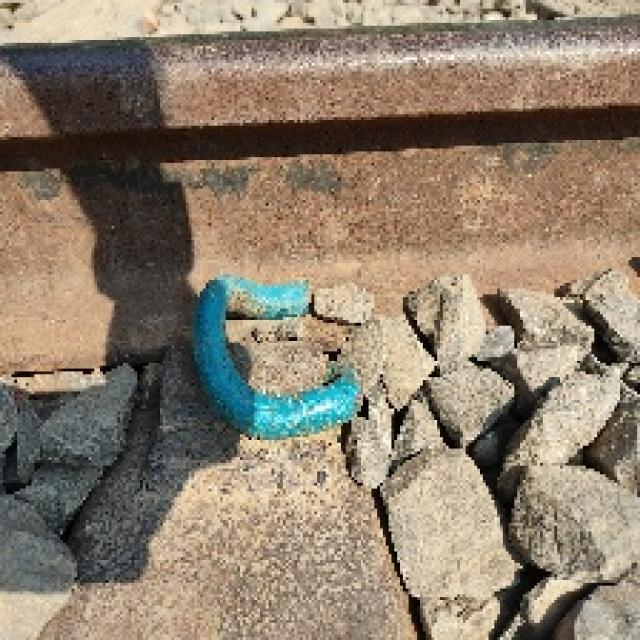Good Fasteners: (137, 280, 357, 549)
